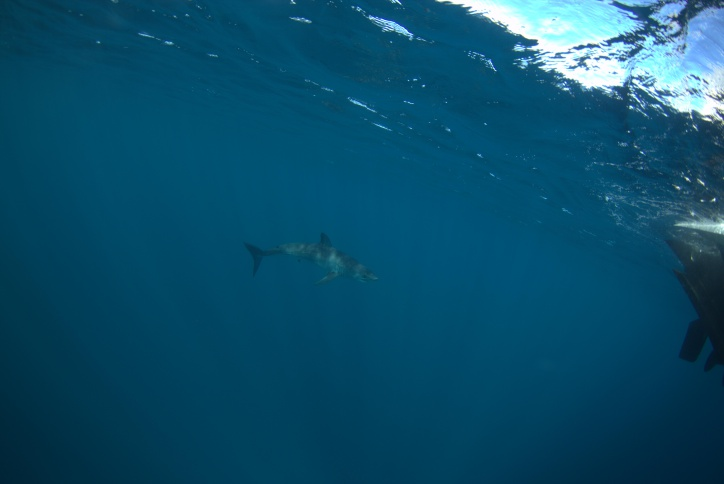Mako: (231, 226, 390, 295)
